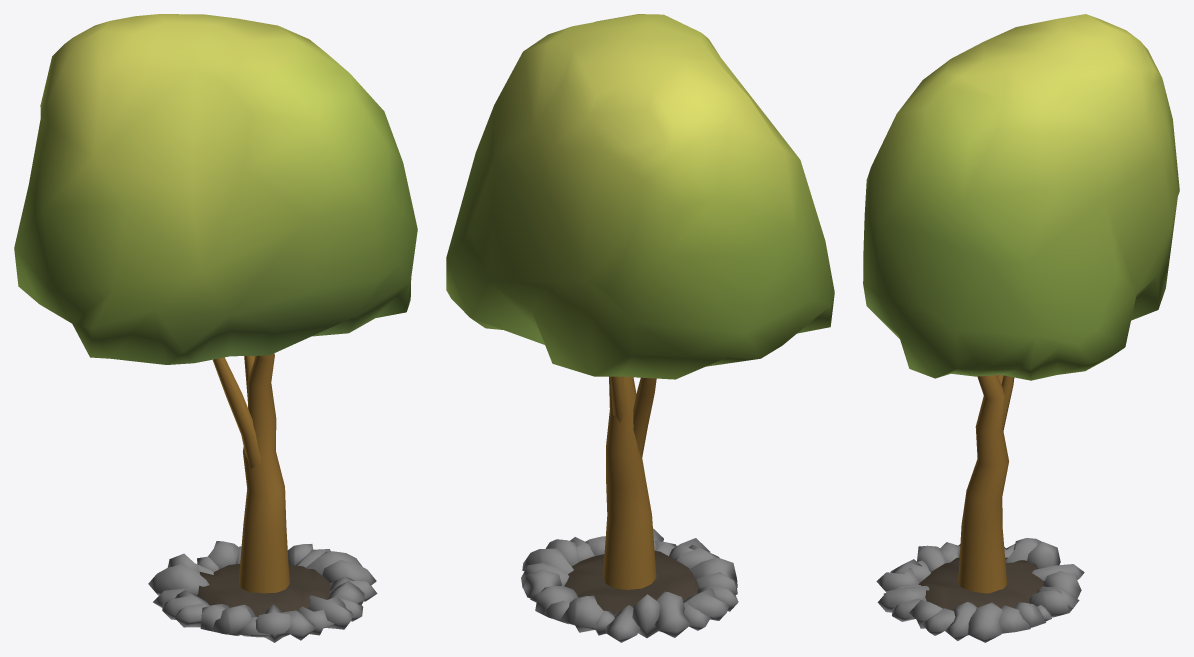
3 views of the same model, side by side, from view 1: azimuth 30°, elevation 25°; view 2: azimuth 150°, elevation 25°; view 3: azimuth 270°, elevation 25° (orthographic). The views are drawn at different scales.
Visible parts, largest first — view 1: Vert.013; view 2: Vert.013; view 3: Vert.013.
Part boxes in pixels (<box>): Vert.013: <box>14,14,417,642</box>; Vert.013: <box>446,14,834,642</box>; Vert.013: <box>863,14,1179,642</box>.
Size of the model in its own units: 293 by 472 by 250.
